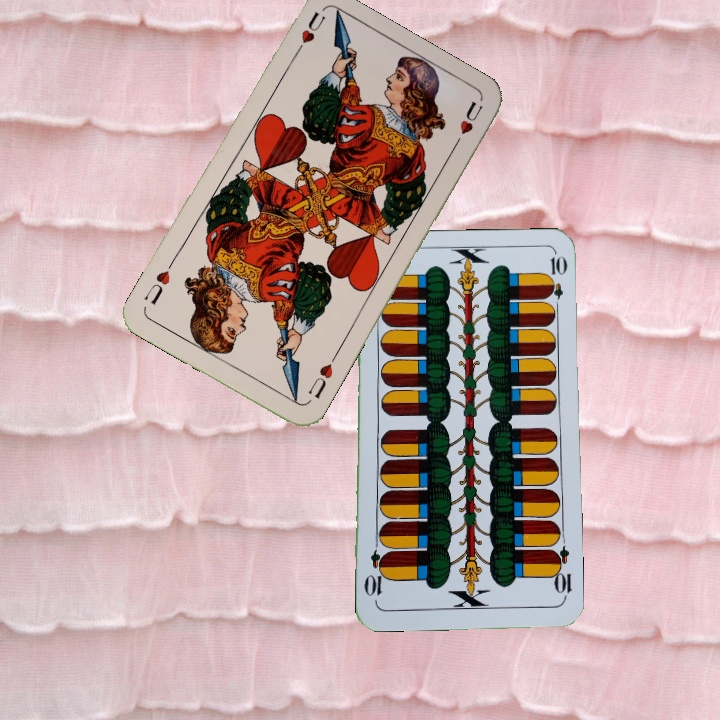E10: (547, 543, 574, 602)
HU: (288, 8, 329, 61), (303, 351, 339, 401)
